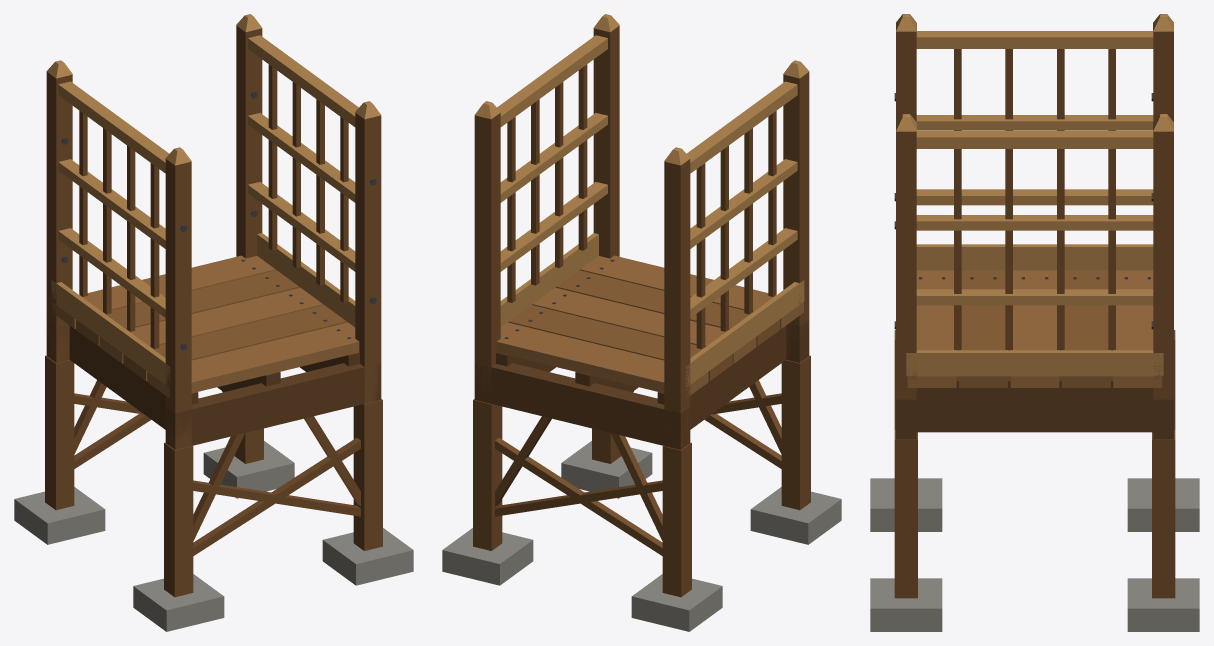
File: footbridge.glb
3 views of the same model, side by side, from view 1: azimuth 30°, elevation 25°; view 2: azimuth 150°, elevation 25°; view 3: azimuth 270°, elevation 25° (orthographic). The views are drawn at different scales.
Visible parts, largest first — view 1: footbridge_mesh; view 2: footbridge_mesh; view 3: footbridge_mesh.
Part boxes in pixels (x1,y1,x2,y2): footbridge_mesh: (14, 14, 413, 631); footbridge_mesh: (442, 14, 841, 631); footbridge_mesh: (870, 14, 1199, 631).
Bounding box in the file's own units: 1.2 × 2.15 × 1.28.
